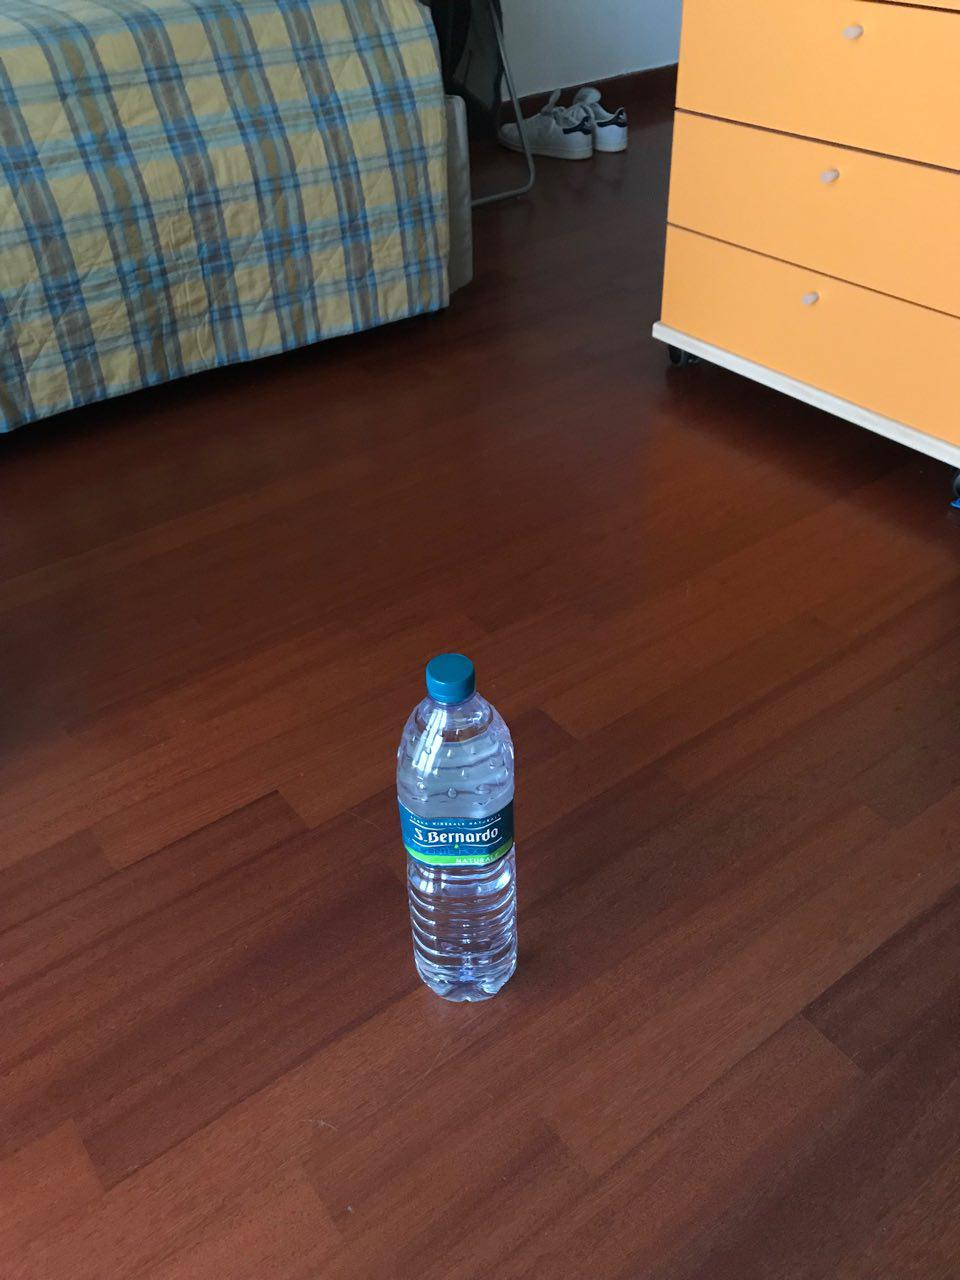san_bernardo: (394, 650, 520, 1007)
